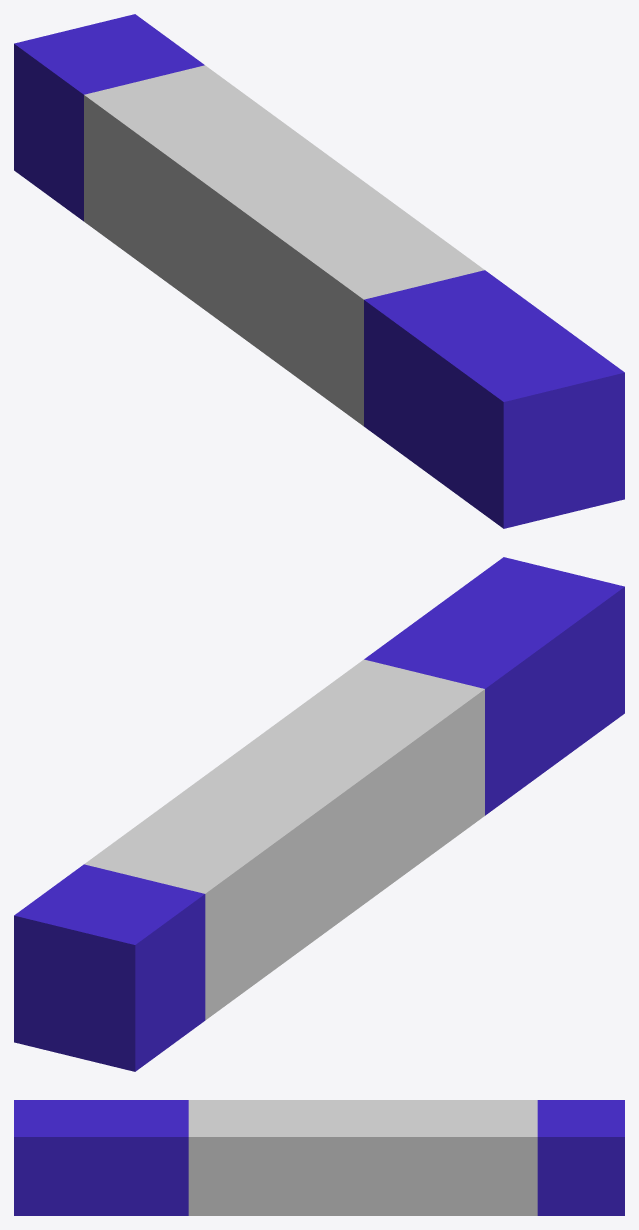
The model's file is pen_blue_01.glb.
3 views of the same model, one above another, from view 1: azimuth 30°, elevation 25°; view 2: azimuth 150°, elevation 25°; view 3: azimuth 270°, elevation 25° (orthographic). The views are drawn at different scales.
Parts seen in each view (by area): view 1: Untitled; view 2: Untitled; view 3: Untitled.
Part boxes in pixels (x1,y1,x2,y2): Untitled: (14,14,624,528); Untitled: (14,557,624,1071); Untitled: (14,1100,624,1215).
Bounding box in the file's own units: 0.03 × 0.03 × 0.21.
1 material, 1 textured.
